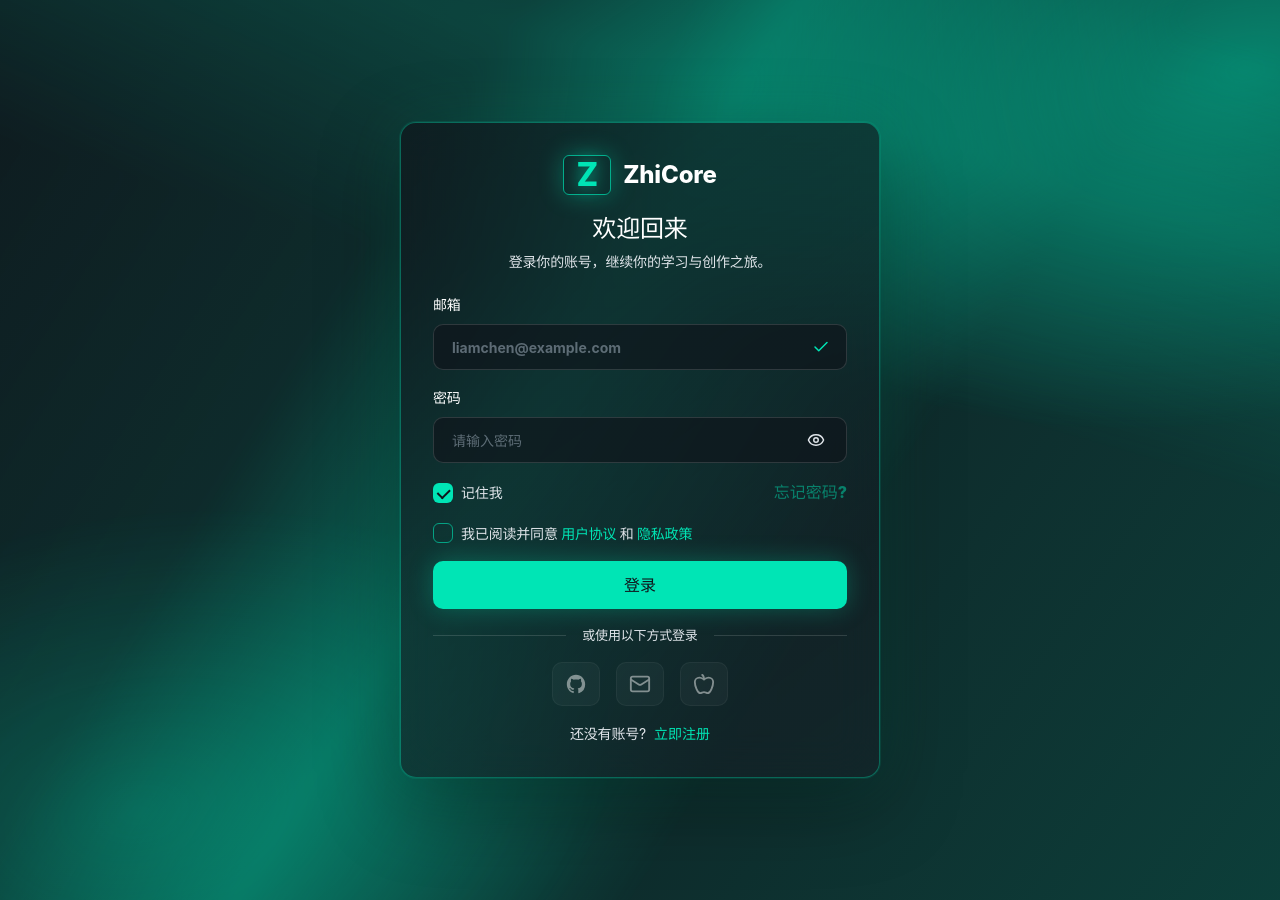
Test: LoginRoutePage › shows a login email validation error before submitting credentials
Step 1. Type "not-an-email" into the field with id "login-email" → x=625, y=347, box [450,335,800,360]
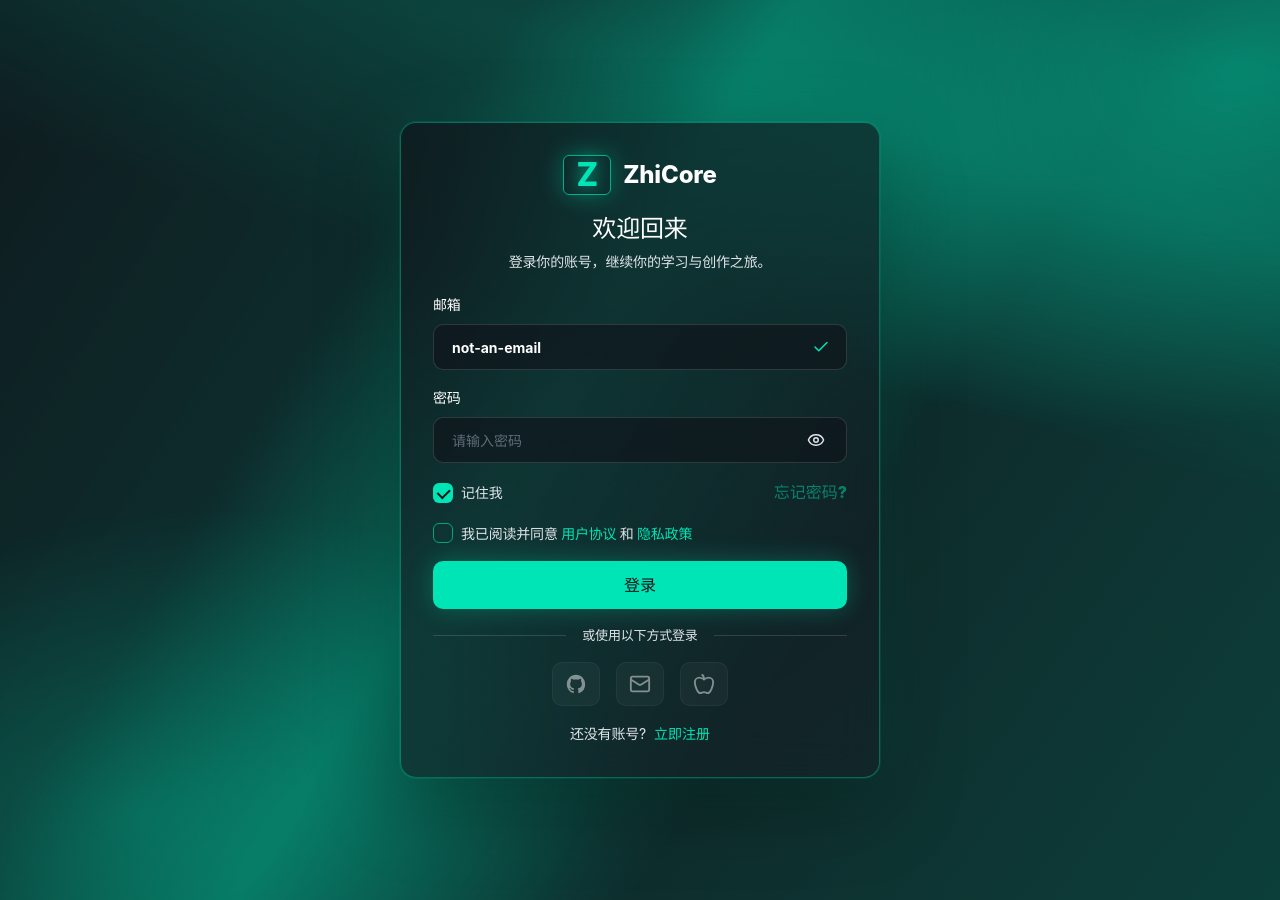
Step 2. Type "Password123" into the password field with id "login-password" → x=626, y=440, box [450,428,802,453]
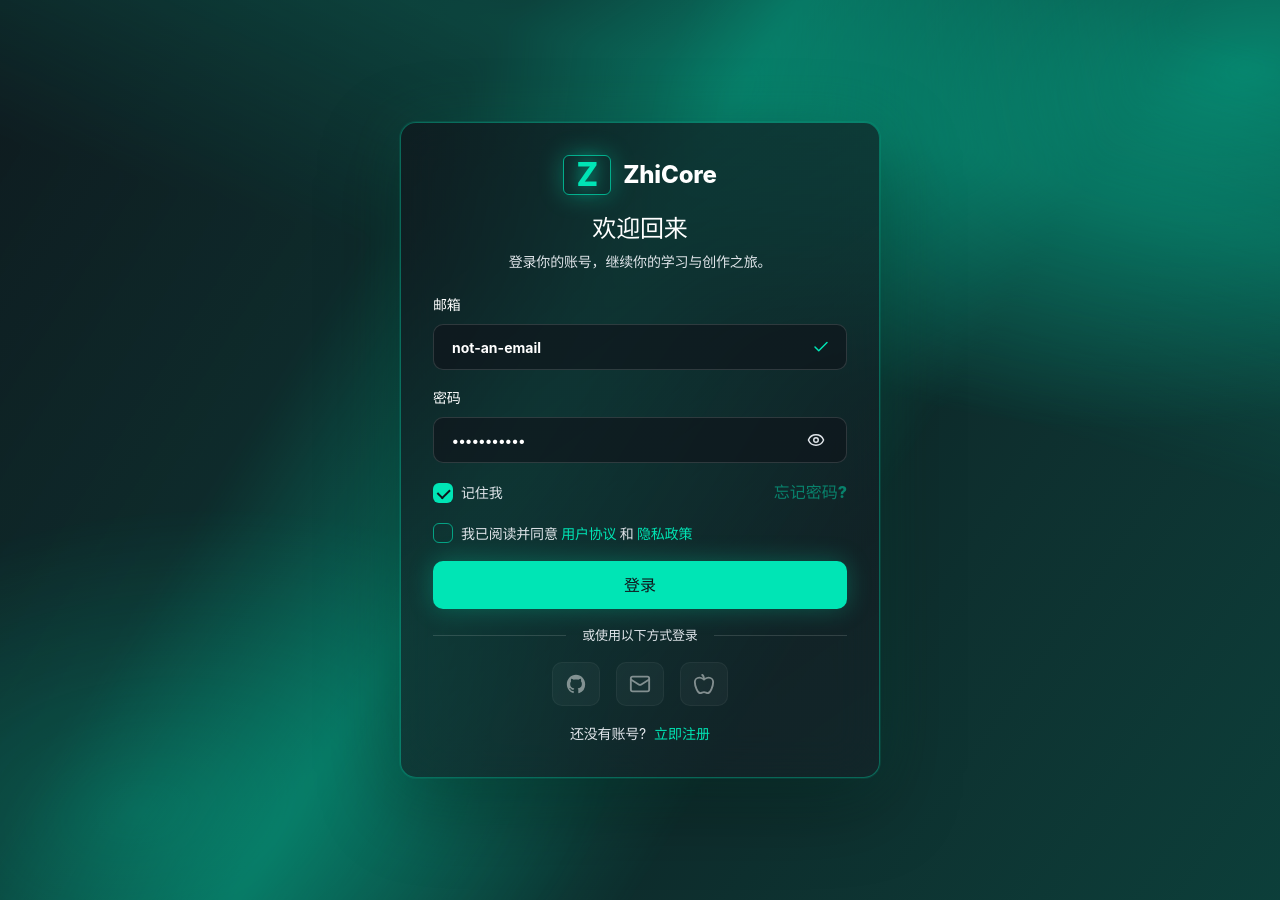
Step 3. Submit the form named "登录", box [433,293,847,745]
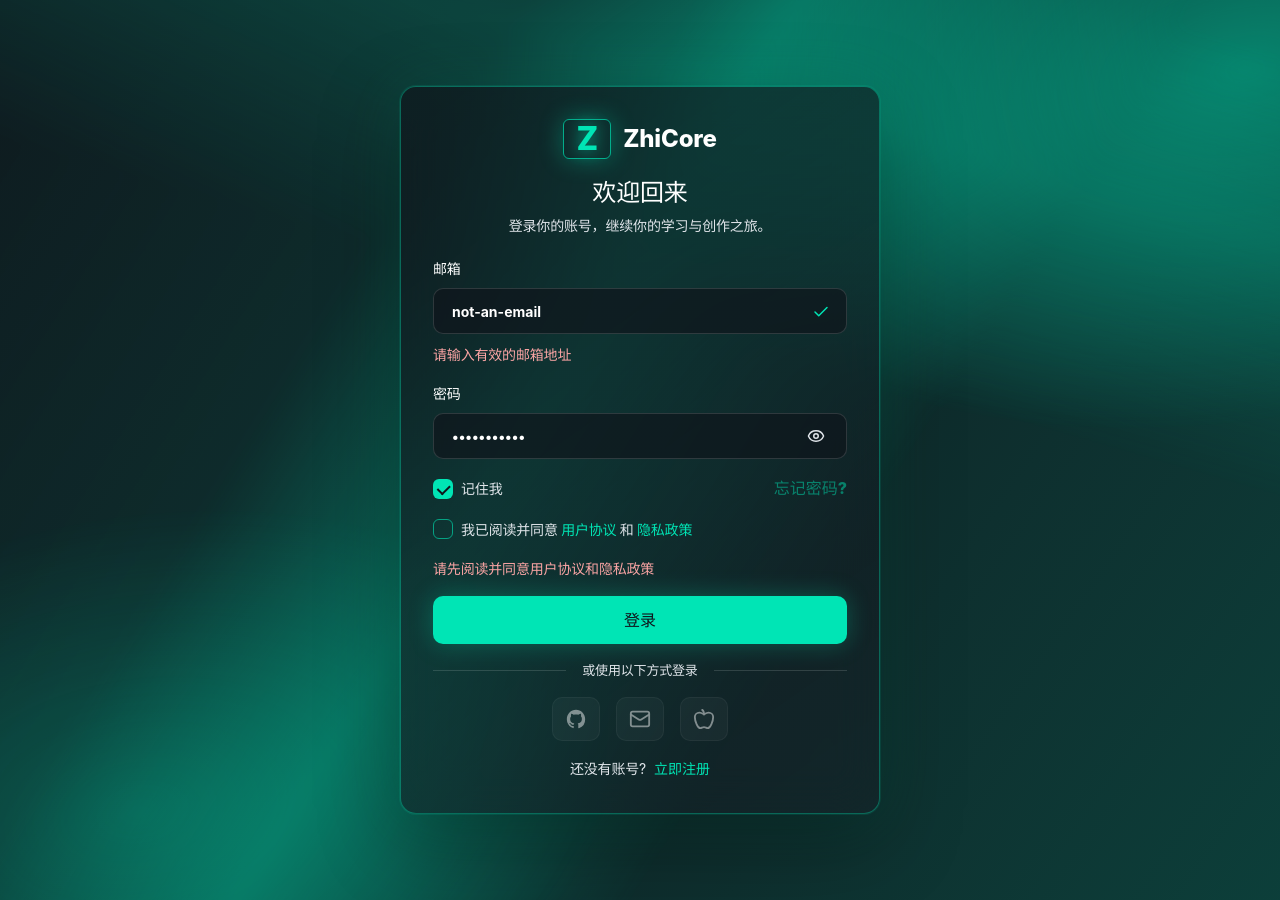
Result: the text with id "login-email-error" reads "请输入有效的邮箱地址" at [433,346,571,363]
